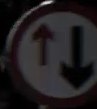Two way: (23, 13, 90, 90)
